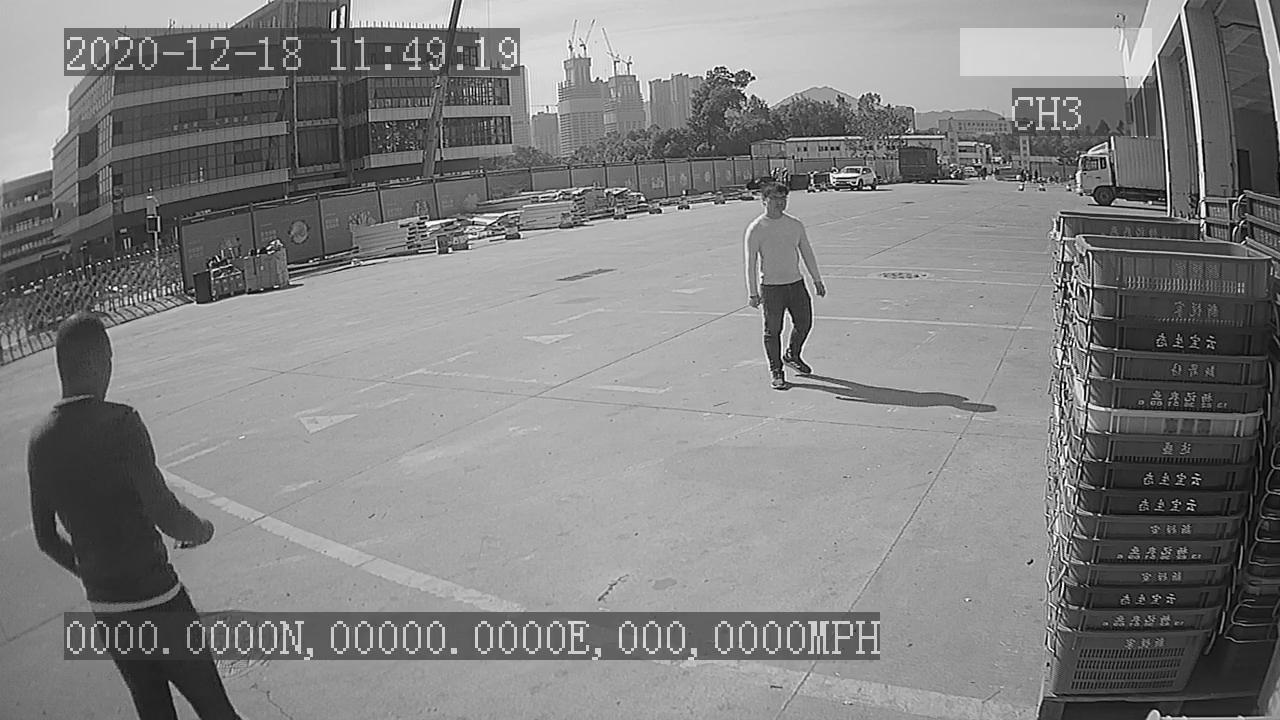person: (738, 183, 829, 392)
